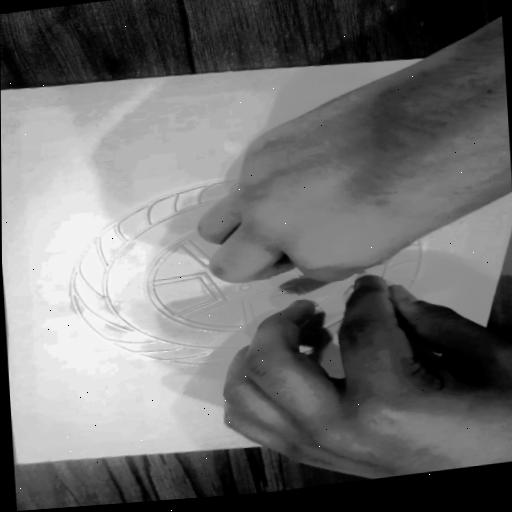tire: (58, 157, 468, 380)
top_right: (14, 461, 21, 465)
